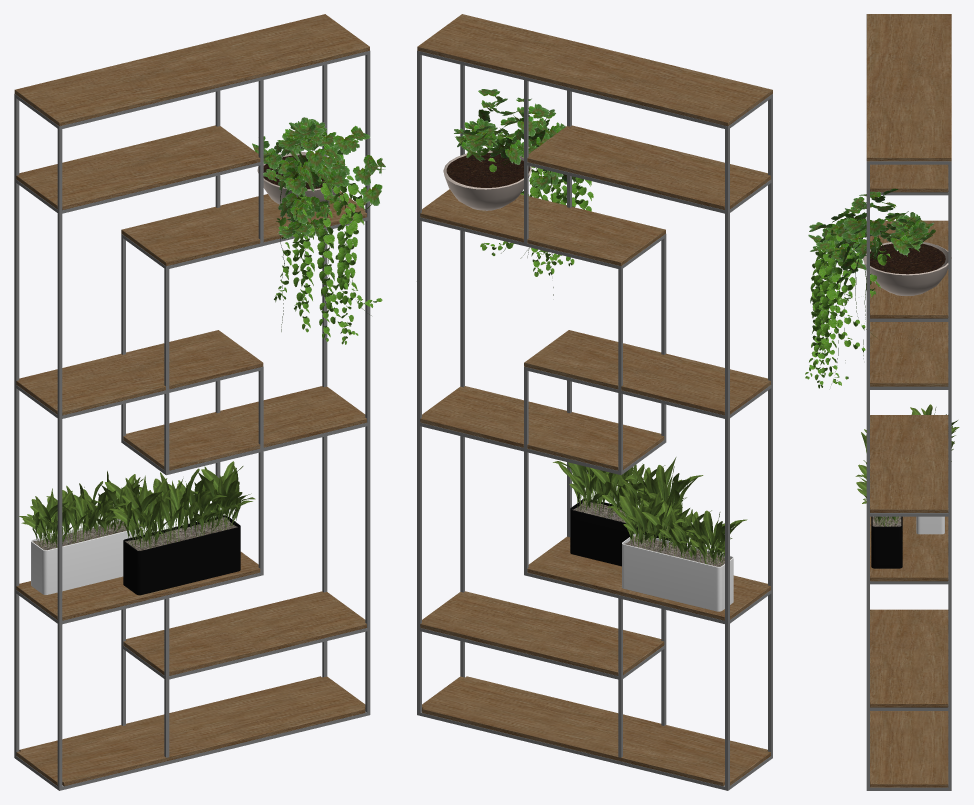
The model's file is Estante.glb.
3 renders of one model, left to right at view 1: azimuth 30°, elevation 25°; view 2: azimuth 150°, elevation 25°; view 3: azimuth 270°, elevation 25°, orthographic. The views are drawn at different scales.
Parts seen in each view (by area): view 1: Geom3D (×19), Geom3D_; view 2: Geom3D (×19), Geom3D_; view 3: Geom3D (×18), Geom3D_.
Boxes of the visible parts, x1,y1,x2,y2 form: Geom3D (×19): (14, 14, 385, 790); Geom3D_: (16, 95, 164, 789); Geom3D (×19): (417, 14, 772, 790); Geom3D_: (623, 95, 771, 789); Geom3D (×18): (805, 14, 951, 790); Geom3D_: (870, 318, 948, 790).
Size of the model in its own units: 1.28 by 2.47 by 0.5603.
11 materials, 7 textured.
